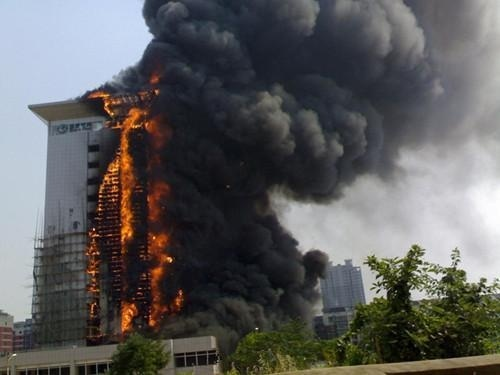fire: (89, 69, 180, 342)
